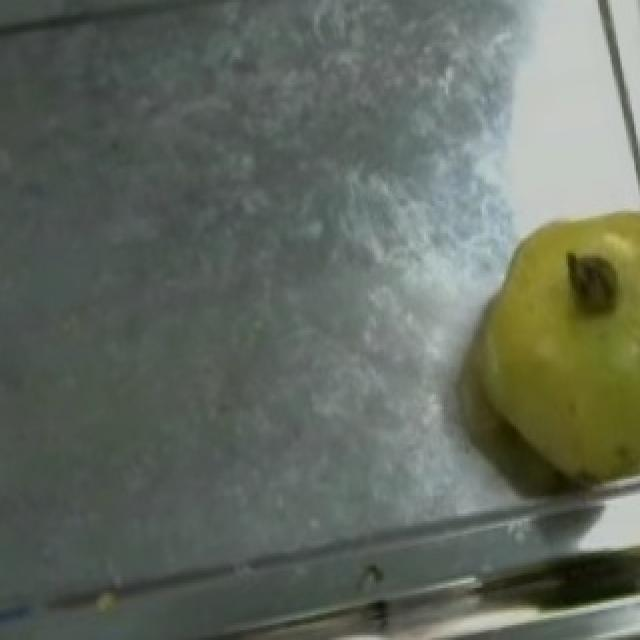fruit: (470, 181, 640, 367)
